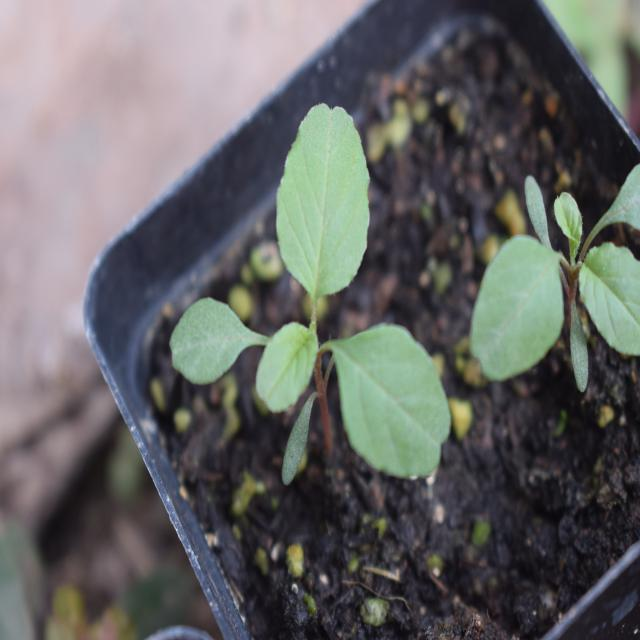pigweed: (180, 138, 472, 496)
